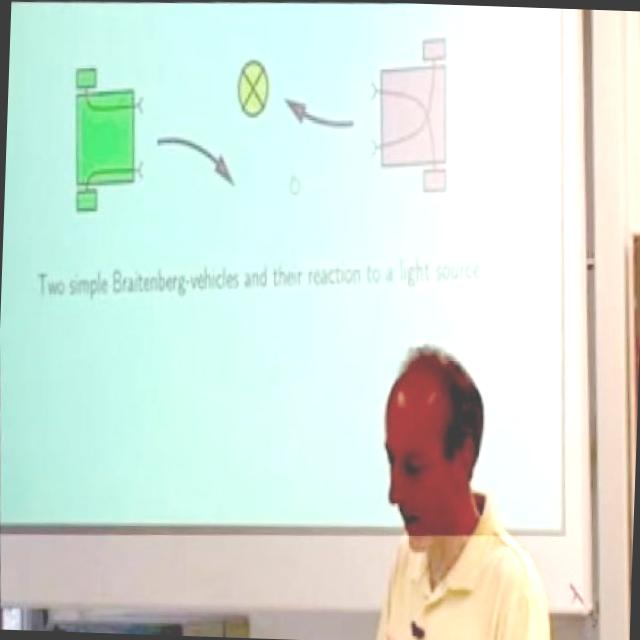Instructor: (354, 340, 537, 640)
Slide: (2, 0, 563, 532)
